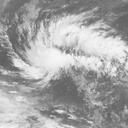cyclone: (21, 18, 85, 82)
